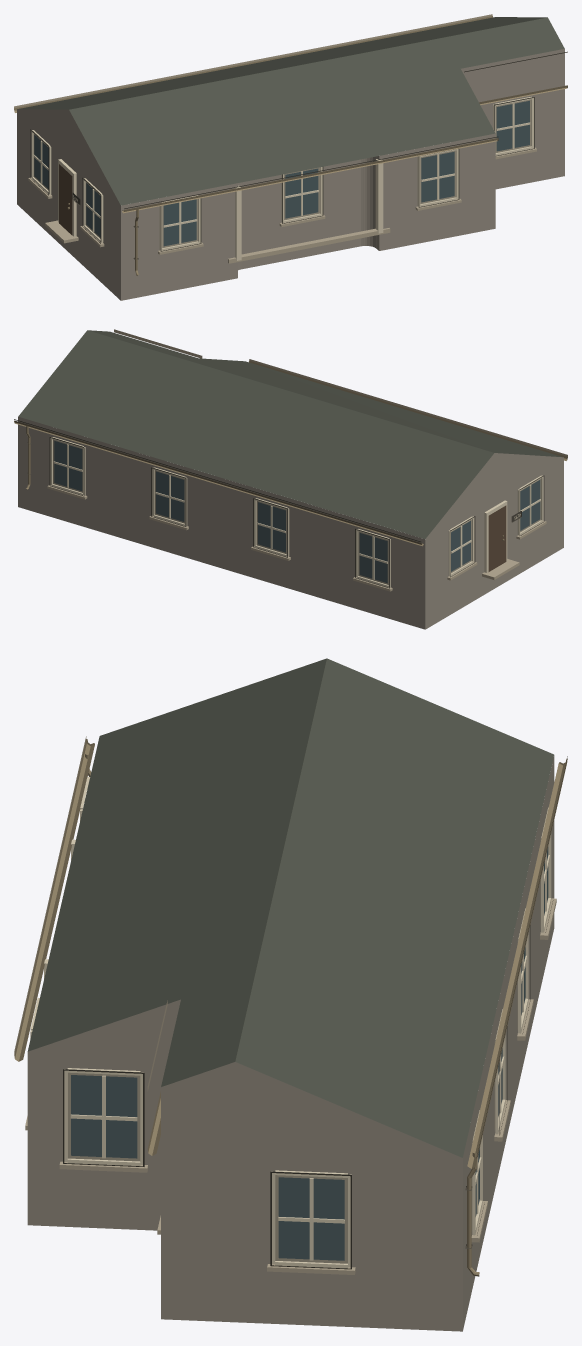
3 views of the same model, one above another, from view 1: azimuth 30°, elevation 25°; view 2: azimuth 150°, elevation 25°; view 3: azimuth 270°, elevation 25° (orthographic). The views are drawn at different scales.
Parts seen in each view (by area): view 1: 0_16_638335731_0; view 2: 0_16_638335731_0; view 3: 0_16_638335731_0.
Part boxes in pixels (left/top/right/bottom): 0_16_638335731_0: left=14, top=14, right=567, bottom=300; 0_16_638335731_0: left=14, top=329, right=567, bottom=629; 0_16_638335731_0: left=14, top=658, right=567, bottom=1331.
Bounding box in the file's own units: 18.12 × 5.15 × 9.93.
